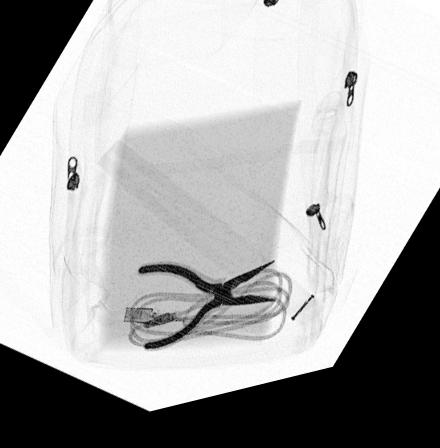Pliers: (135, 267, 278, 359)
